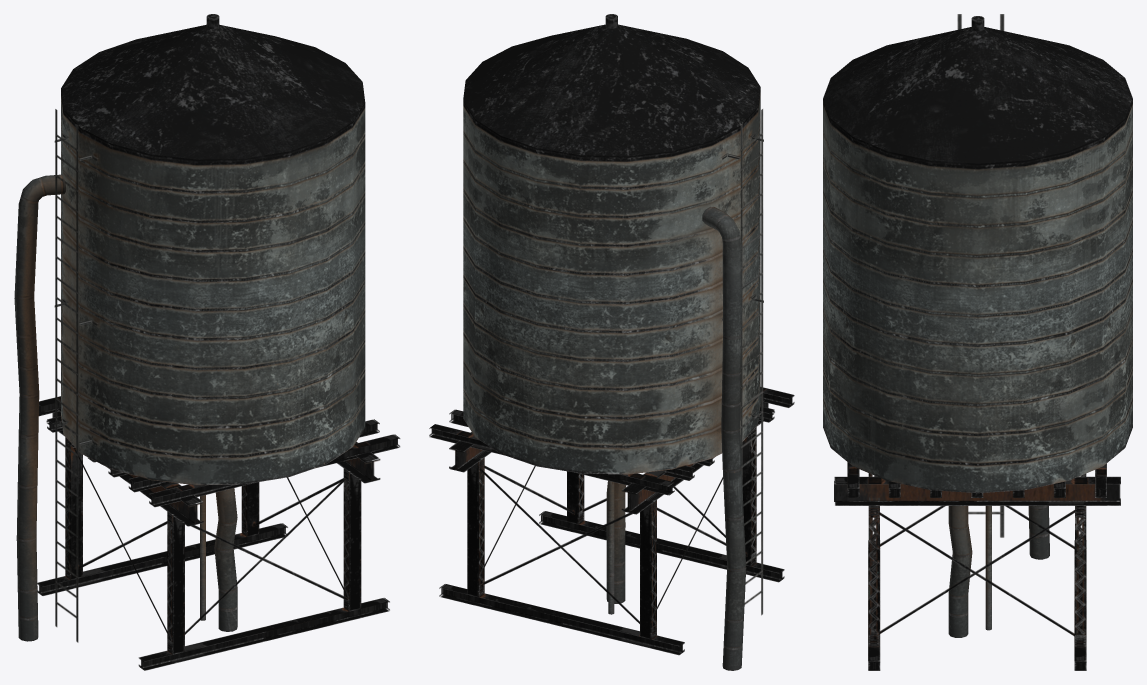
3 views of the same model, side by side, from view 1: azimuth 30°, elevation 25°; view 2: azimuth 150°, elevation 25°; view 3: azimuth 270°, elevation 25° (orthographic). The views are drawn at different scales.
Parts seen in each view (by area): view 1: Object_2; view 2: Object_2; view 3: Object_2.
Boxes of the visible parts, x1,y1,x2,y2 form: Object_2: (14,14,400,670); Object_2: (429,14,794,670); Object_2: (823,14,1132,670).
Bounding box in the file's own units: 337 × 655 × 300.
Materials: 1 (1 with a texture image).
